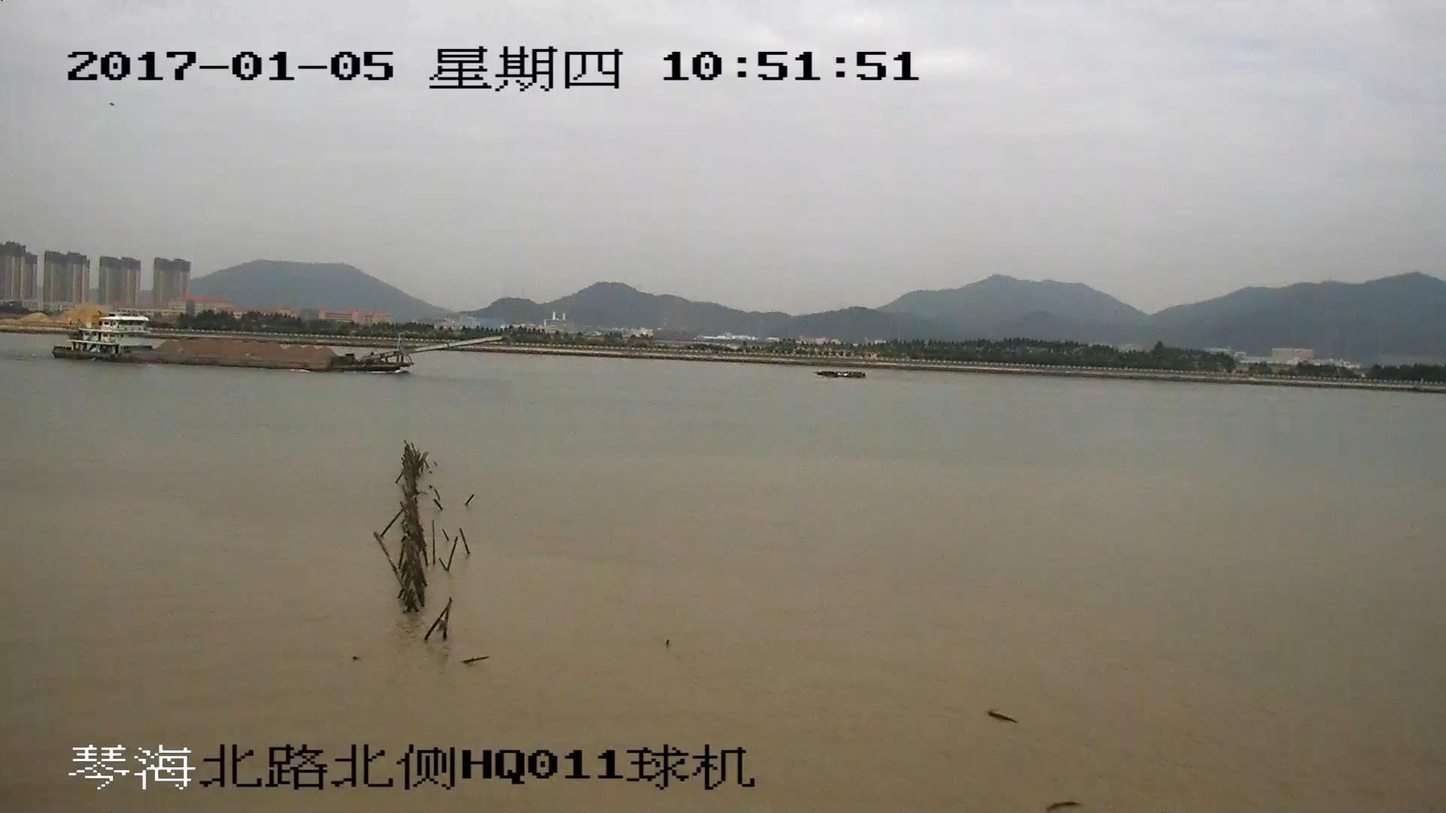ore carrier: (49, 314, 499, 370)
